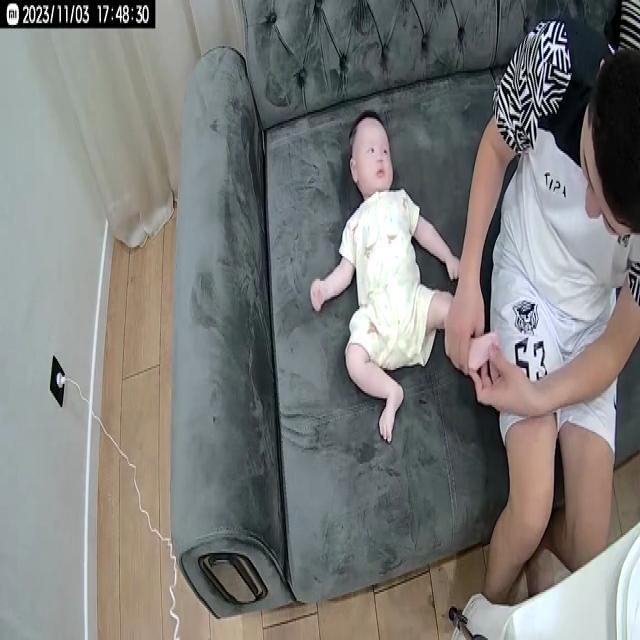baby: (308, 110, 500, 443)
